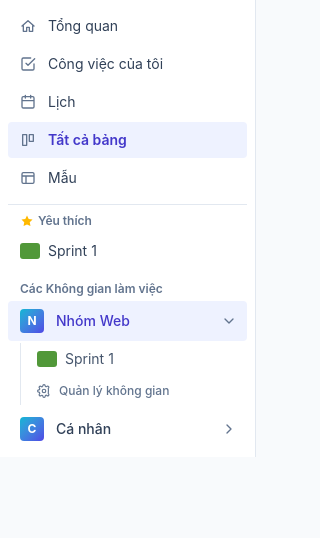
Test: Sidebar - cây không gian làm việc › bấm tên không gian thì chọn nó và mở ra
The width and height of the screenshot is (320, 538).
What coordinates should you click on to do the following:
click the text "Cá nhân"
I would click on:
 (84, 428)
Its box is [56, 420, 111, 437].
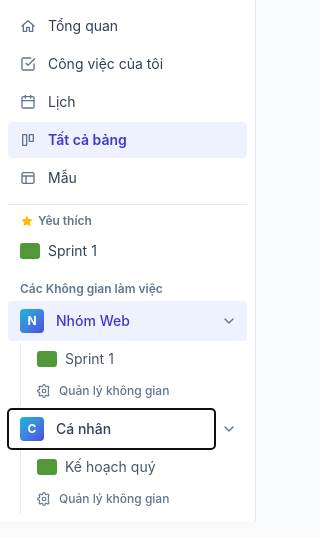
Check: the button named "Thu gọn Cá nhân" is shown, box [215, 415, 243, 443]
